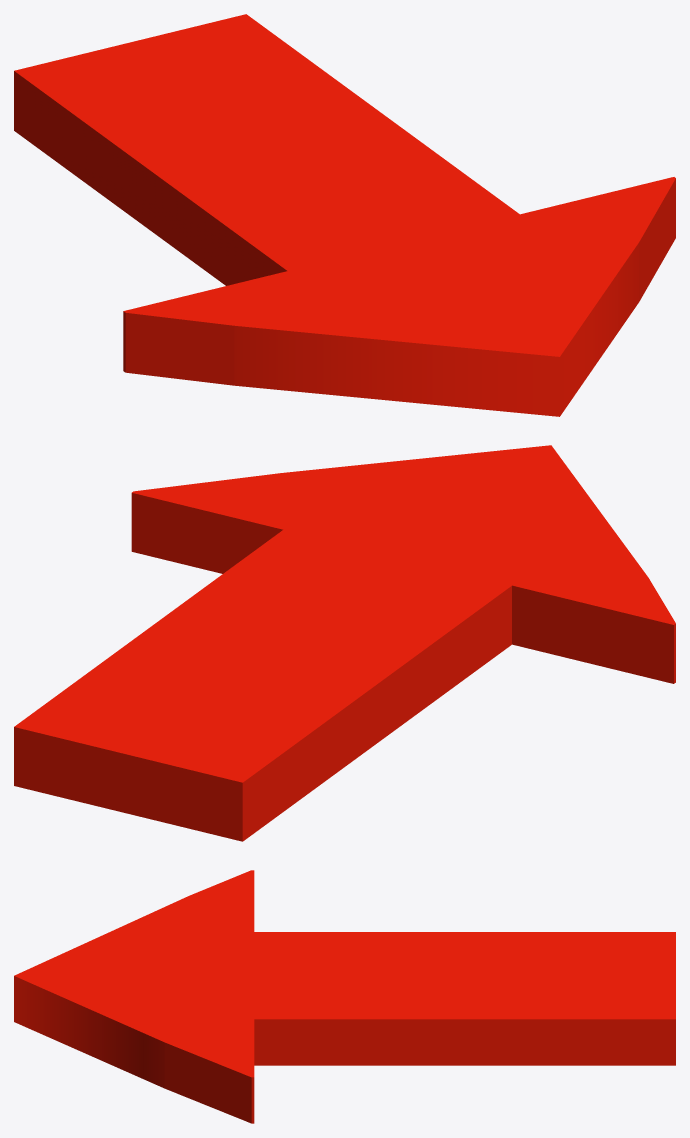
Rendered from pointa.FBX.
3 renders of one model, top to bottom at view 1: azimuth 30°, elevation 25°; view 2: azimuth 150°, elevation 25°; view 3: azimuth 270°, elevation 25°, orthographic. The views are drawn at different scales.
Visible parts, largest first — view 1: Box001; view 2: Box001; view 3: Box001.
Boxes of the visible parts, box(x1,y1,x2,y2) form: Box001: box(14, 14, 675, 416); Box001: box(14, 445, 675, 841); Box001: box(14, 870, 675, 1123).
Bounding box in the file's own units: 37.3 × 50.4 × 3.88.
